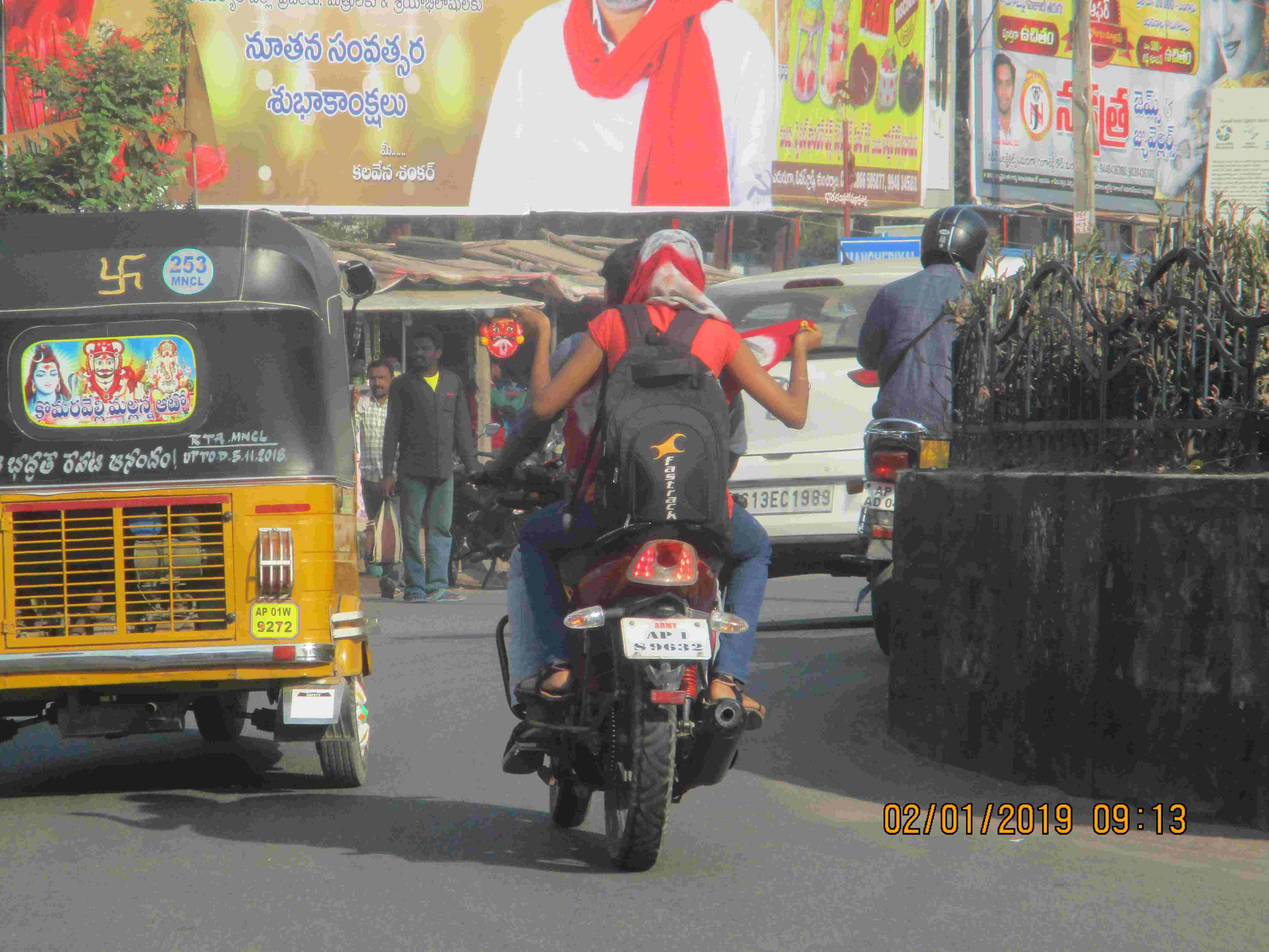plate: (616, 613, 721, 666)
